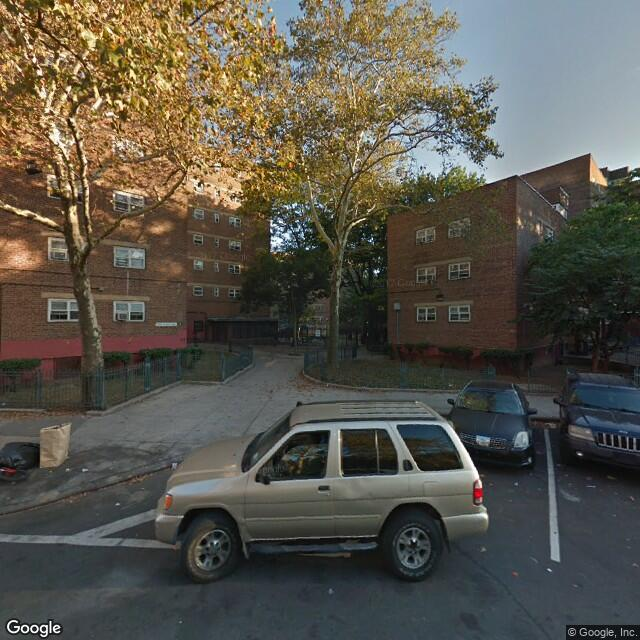litter: (84, 467, 88, 471), (65, 466, 70, 469), (117, 501, 121, 504), (327, 588, 333, 590), (514, 480, 517, 483), (546, 568, 550, 570)
